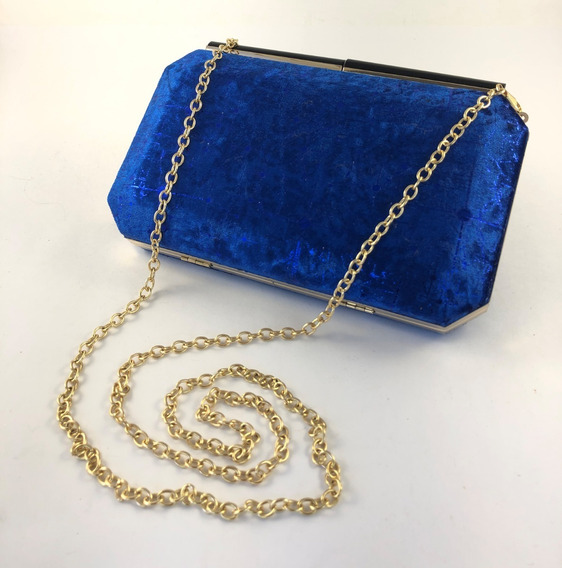cartera: (105, 33, 532, 337)
